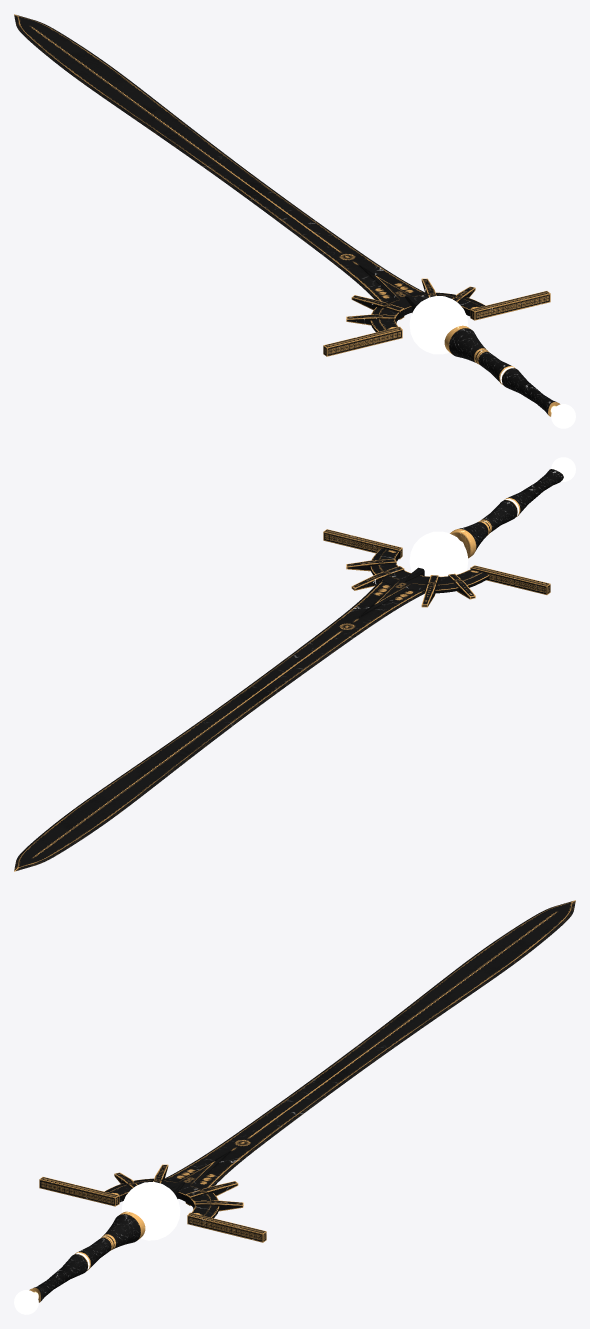
Rendered from A_Alefv2.fbx.
The picture shows the model from 3 angles, top to bottom: view 1: azimuth 30°, elevation 25°; view 2: azimuth 150°, elevation 25°; view 3: azimuth 330°, elevation 25°; orthographic projection.
Visible parts, largest first — view 1: A_Alef; view 2: A_Alef; view 3: A_Alef.
Part boxes in pixels (x1,y1,x2,y2): A_Alef: (14, 14, 575, 428); A_Alef: (14, 457, 575, 871); A_Alef: (14, 900, 575, 1314).
Bounding box in the file's own units: 41.56 × 9.52 × 179.
Materials: 2 (2 with a texture image).
